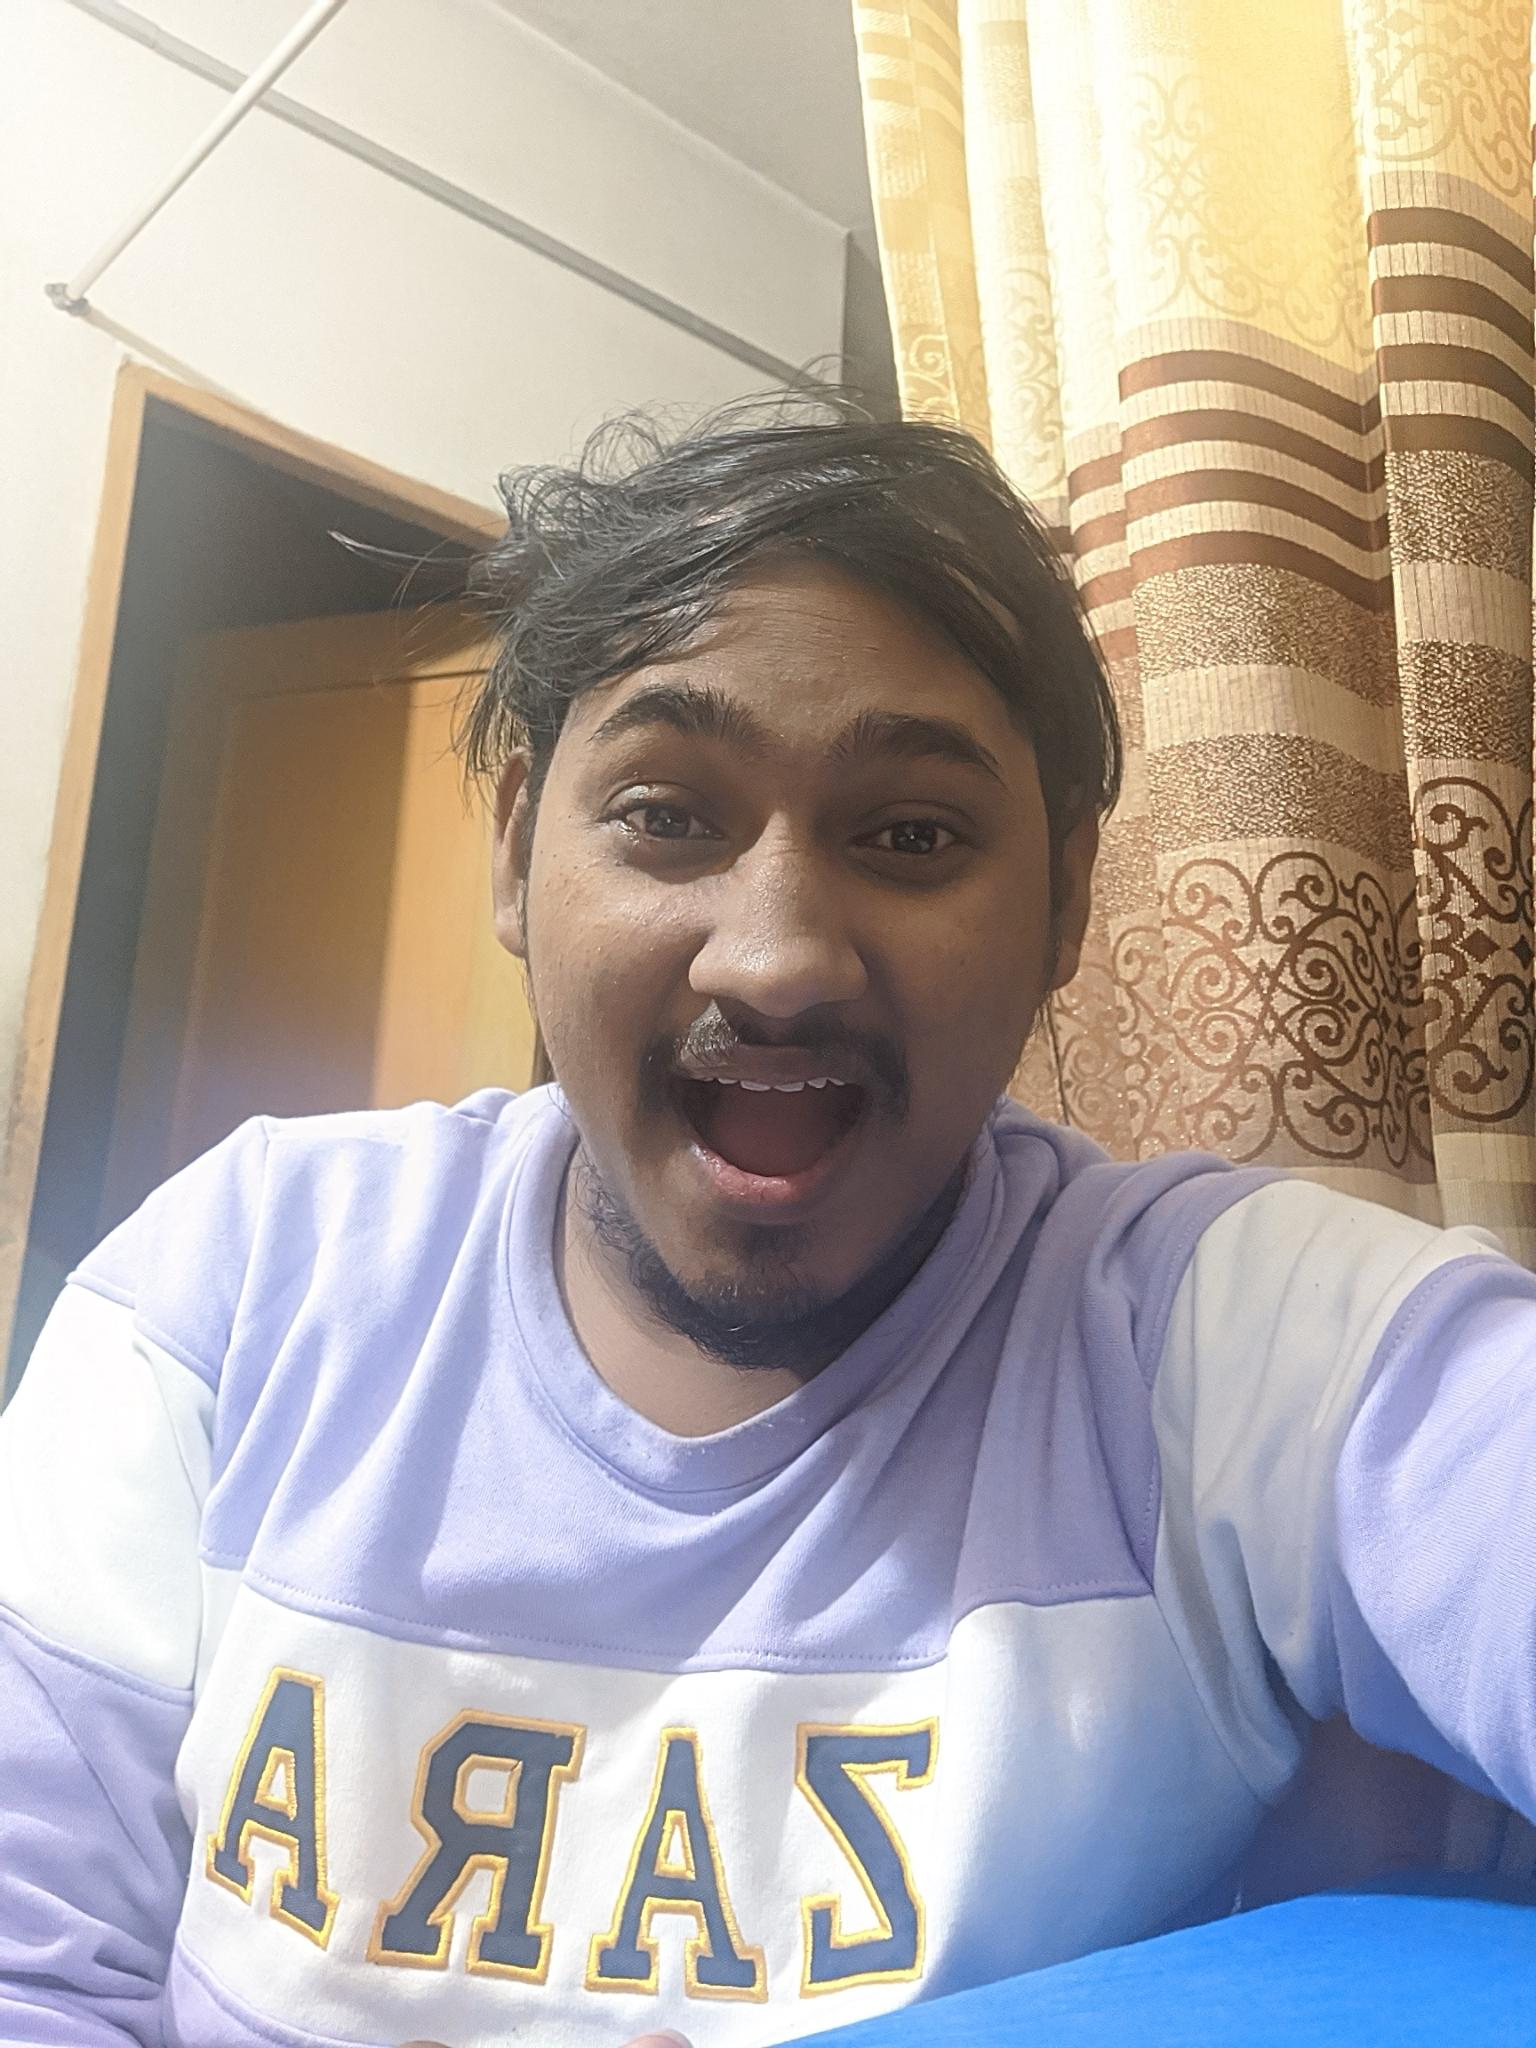Surprise: (463, 614, 1066, 1334)
